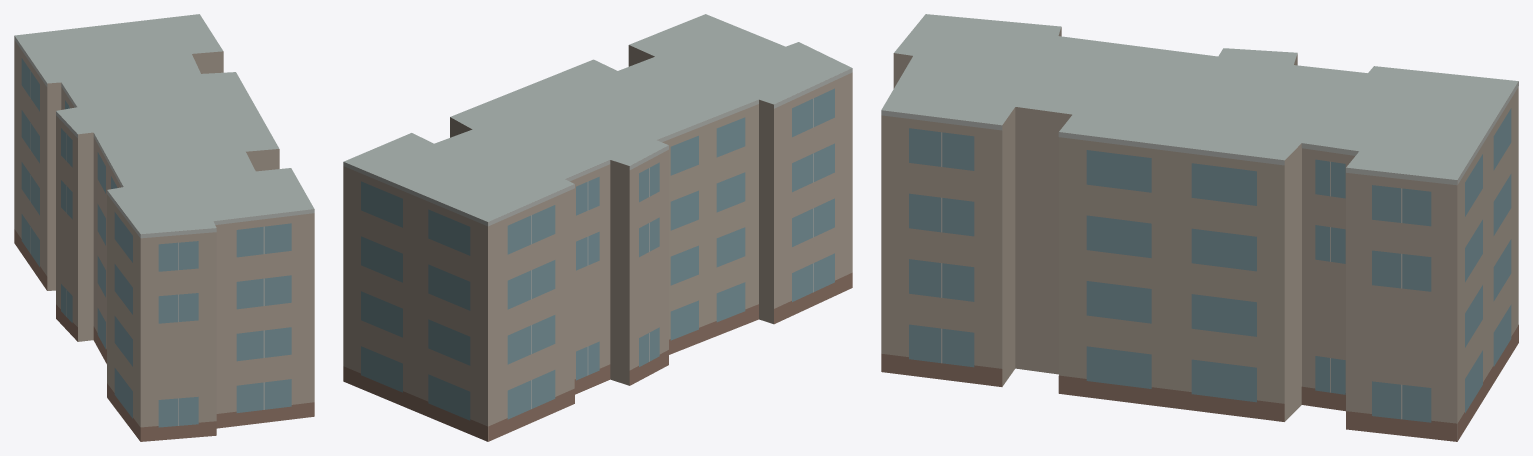
File: survey-upis-32960439.glb
3 renders of one model, left to right at view 1: azimuth 30°, elevation 25°; view 2: azimuth 150°, elevation 25°; view 3: azimuth 270°, elevation 25°, orthographic. The views are drawn at different scales.
Parts seen in each view (by area): view 1: survey-upis-32960439.tmp; view 2: survey-upis-32960439.tmp; view 3: survey-upis-32960439.tmp.
Part boxes in pixels (x1,y1,x2,y2): survey-upis-32960439.tmp: [14, 14, 314, 441]; survey-upis-32960439.tmp: [343, 14, 852, 441]; survey-upis-32960439.tmp: [881, 14, 1518, 441].
Bounding box in the file's own units: 16.82 × 12.35 × 27.27.
